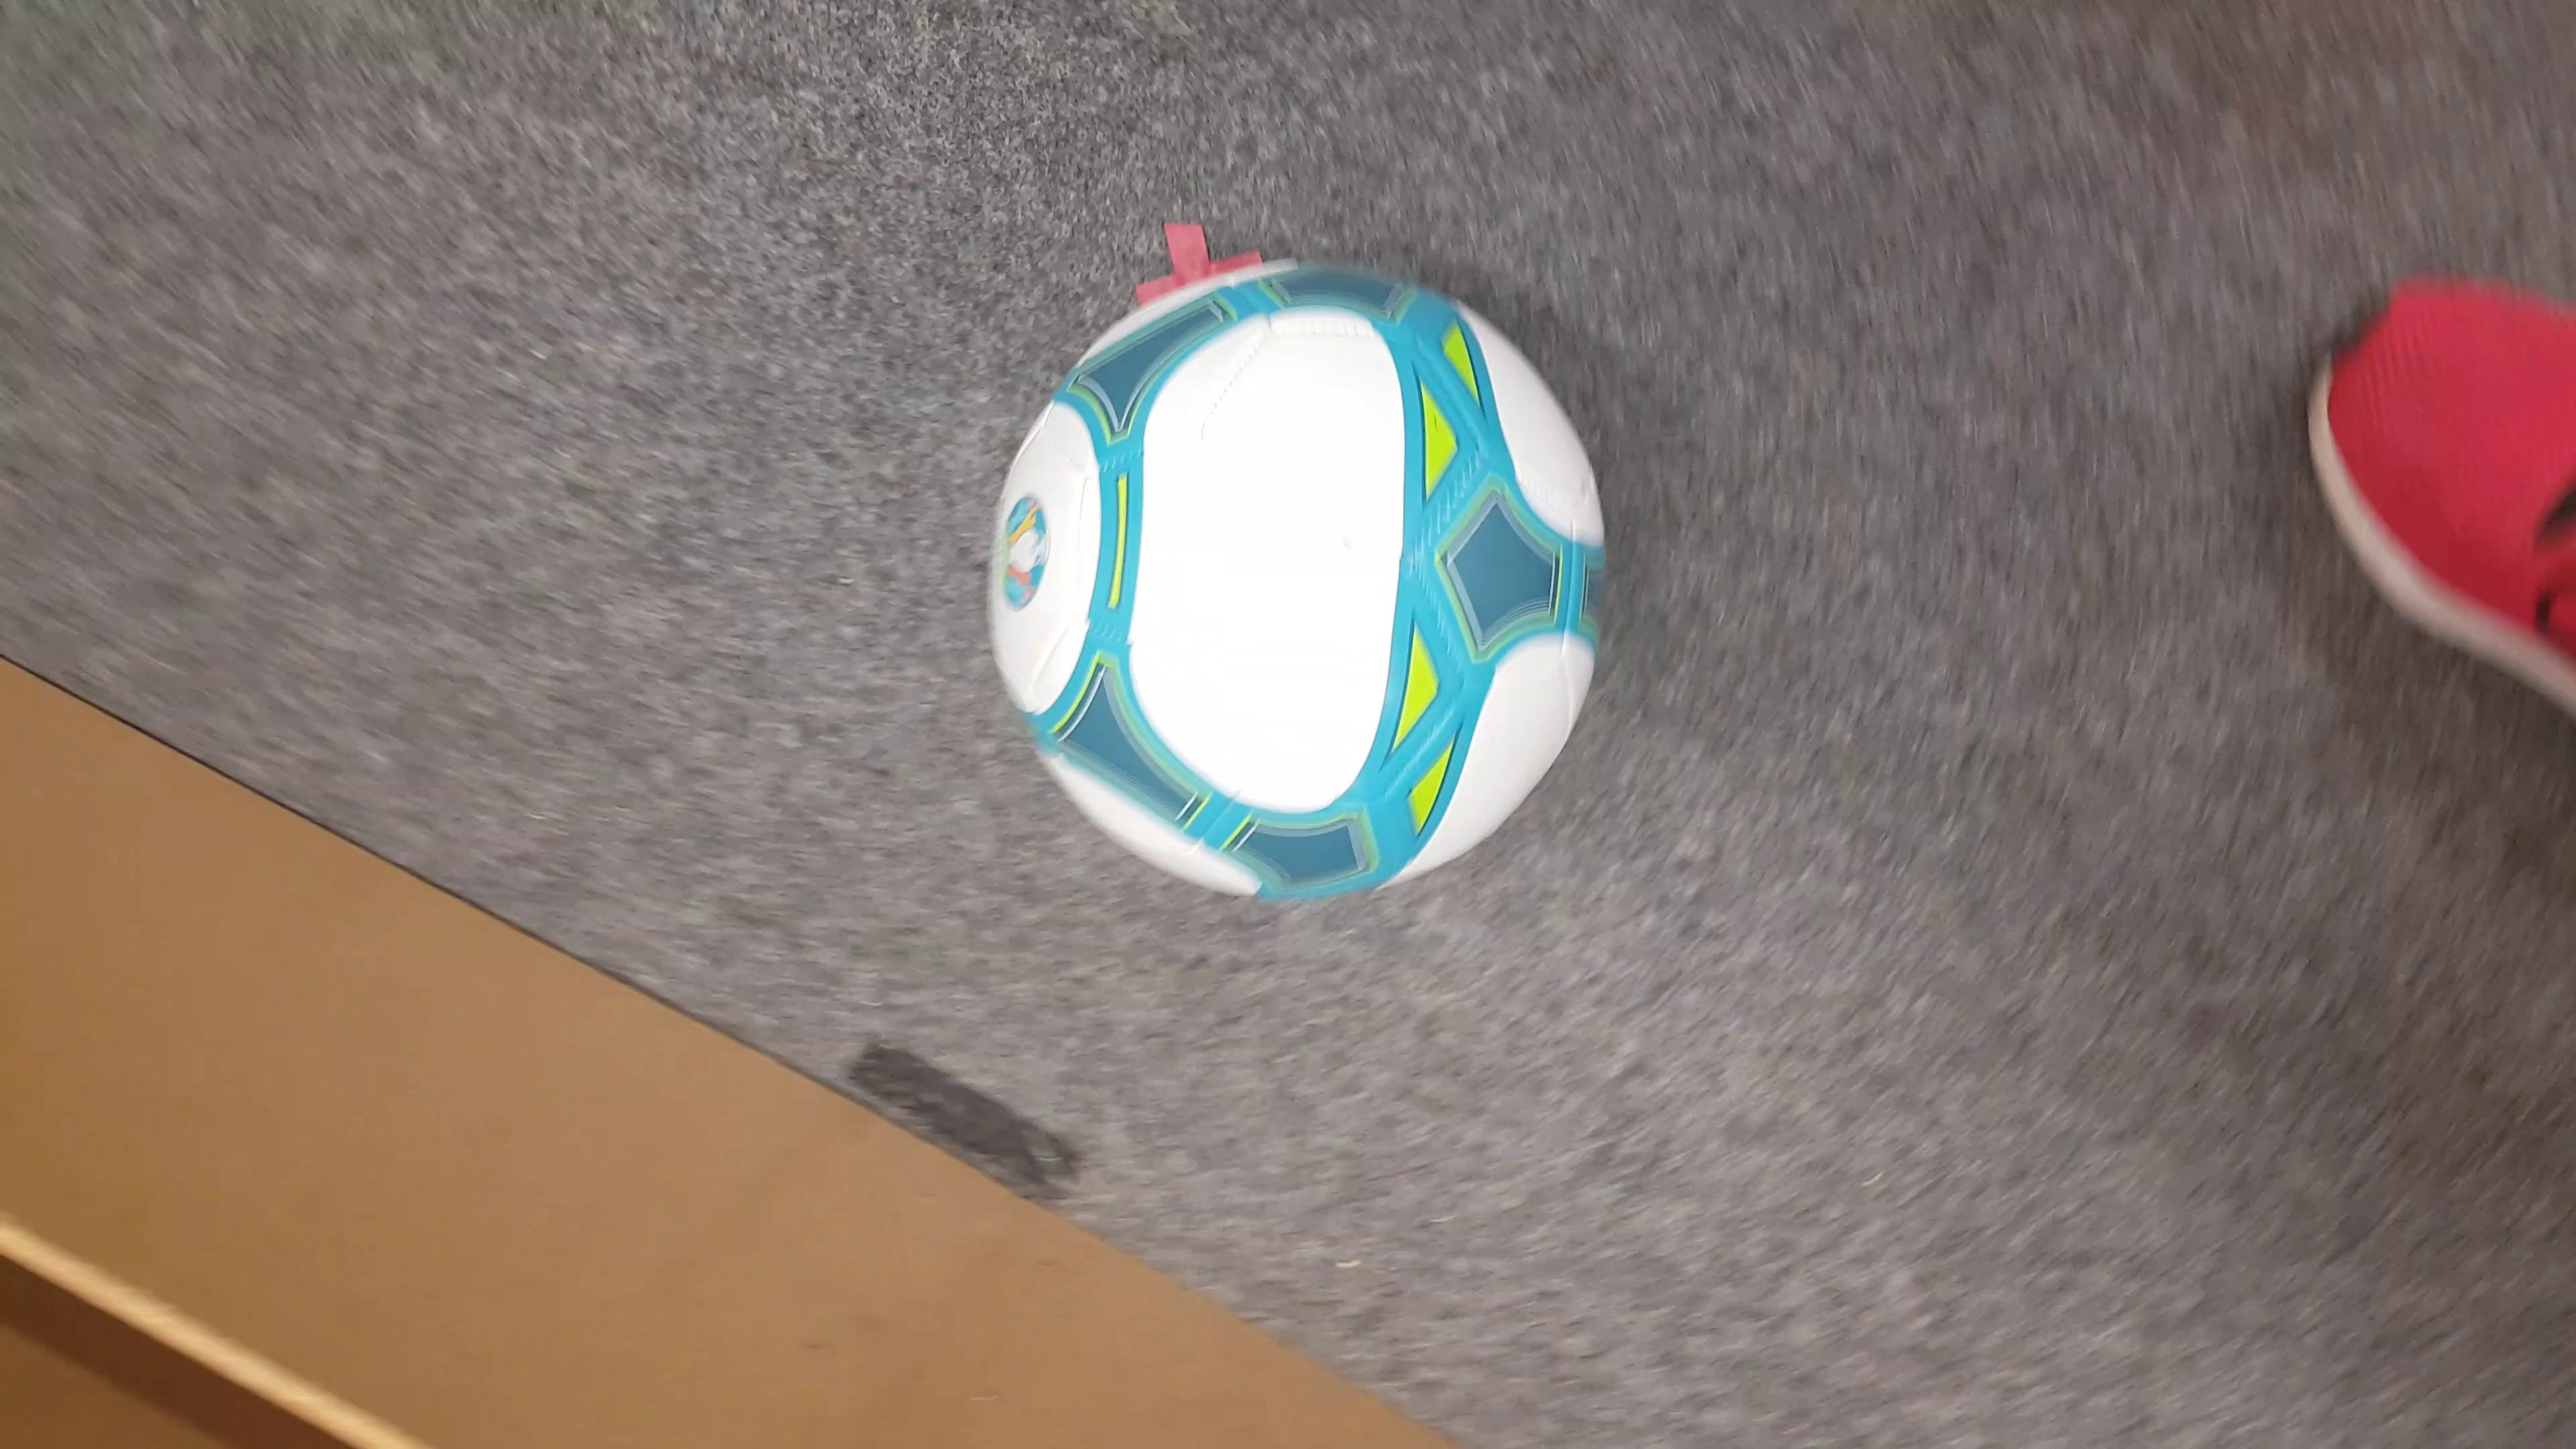kick: (1005, 260, 1605, 892)
